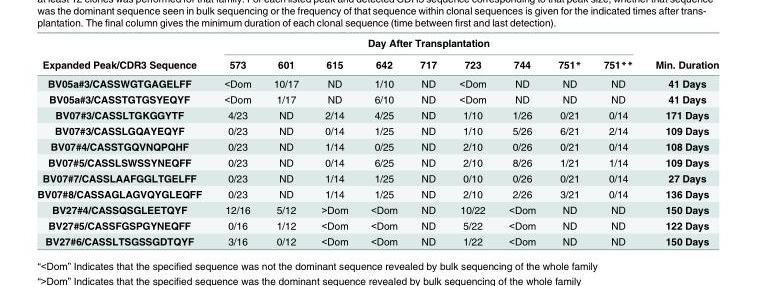table: (36, 36, 718, 246)
table column: (36, 36, 212, 246), (643, 36, 718, 246), (591, 36, 643, 246), (358, 36, 408, 246), (496, 36, 546, 246), (212, 36, 261, 246), (309, 36, 358, 246), (447, 36, 496, 246), (261, 36, 309, 246), (546, 36, 591, 246), (408, 36, 447, 246)
table column header: (36, 36, 718, 73)
table row: (36, 53, 718, 73), (36, 36, 718, 53), (36, 73, 718, 90), (36, 90, 718, 106), (36, 106, 718, 122), (36, 122, 718, 138), (36, 138, 718, 154), (36, 169, 718, 185), (36, 185, 718, 201), (36, 201, 718, 217), (36, 154, 718, 169), (36, 217, 718, 232), (36, 232, 718, 246)
table spanning cell: (212, 36, 643, 53), (36, 36, 212, 73), (643, 36, 718, 73)
